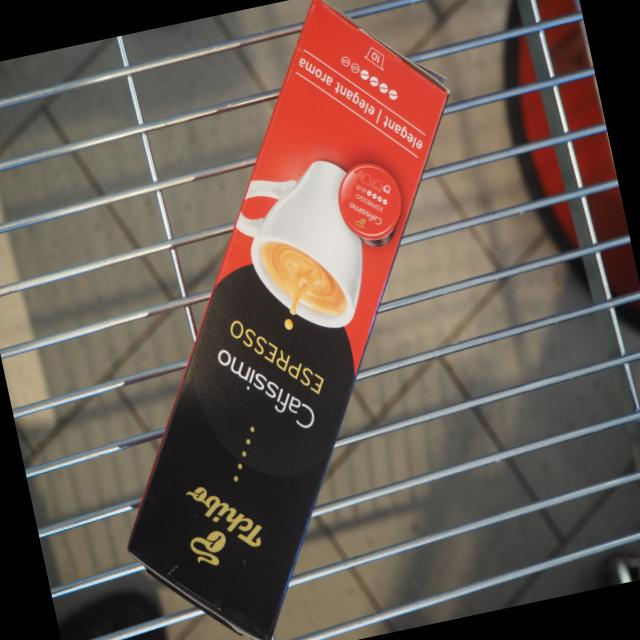Simo Es Elegant: (117, 0, 457, 640)
